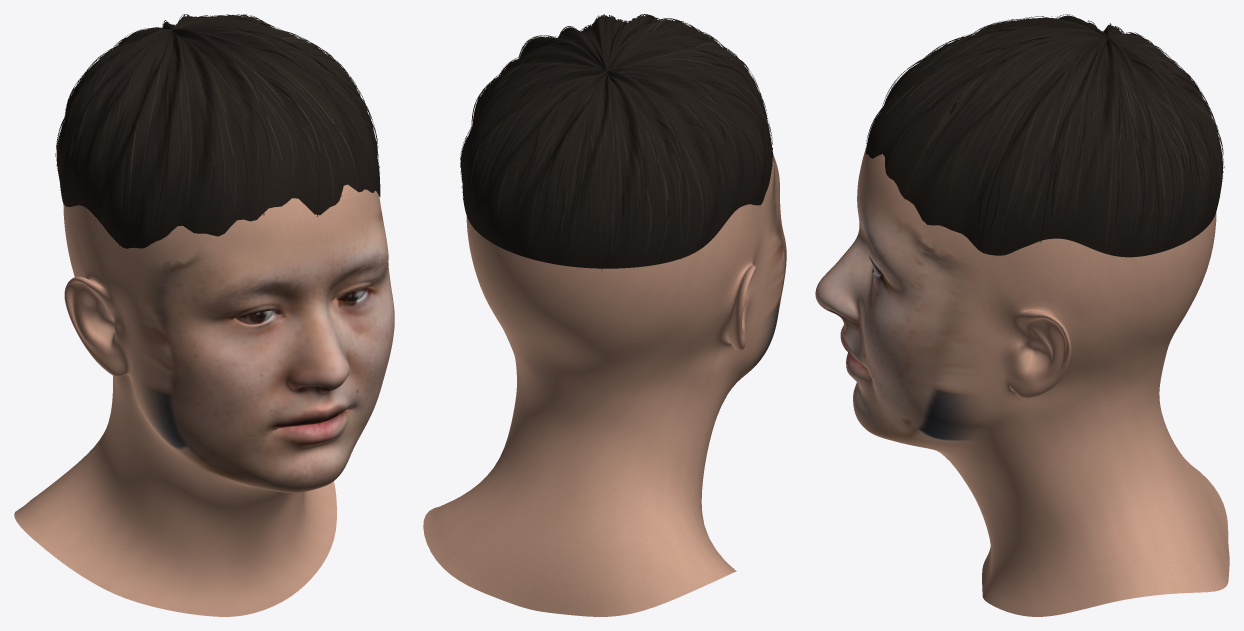
The model's file is fan.glb.
3 views of the same model, side by side, from view 1: azimuth 30°, elevation 25°; view 2: azimuth 150°, elevation 25°; view 3: azimuth 270°, elevation 25° (orthographic). The views are drawn at different scales.
Parts seen in each view (by area): view 1: 樊振东 · 多角度拟合头模, 发型外层 · 短两侧与向前短尖发, 碎发与发流; view 2: 樊振东 · 多角度拟合头模, 发型外层 · 短两侧与向前短尖发, 碎发与发流; view 3: 樊振东 · 多角度拟合头模, 发型外层 · 短两侧与向前短尖发, 碎发与发流.
Boxes of the visible parts, x1=… form: 樊振东 · 多角度拟合头模: x1=14, y1=184, x2=394, y2=616; 发型外层 · 短两侧与向前短尖发: x1=57, y1=15, x2=380, y2=248; 碎发与发流: x1=55, y1=14, x2=379, y2=246; 樊振东 · 多角度拟合头模: x1=423, y1=153, x2=786, y2=616; 发型外层 · 短两侧与向前短尖发: x1=461, y1=16, x2=772, y2=268; 碎发与发流: x1=460, y1=14, x2=773, y2=270; 樊振东 · 多角度拟合头模: x1=815, y1=147, x2=1229, y2=616; 发型外层 · 短两侧与向前短尖发: x1=865, y1=15, x2=1222, y2=257; 碎发与发流: x1=865, y1=14, x2=1224, y2=256.
Size of the model in its own units: 0.1759 by 0.3129 by 0.2115.
Materials: 7 (1 with a texture image).
